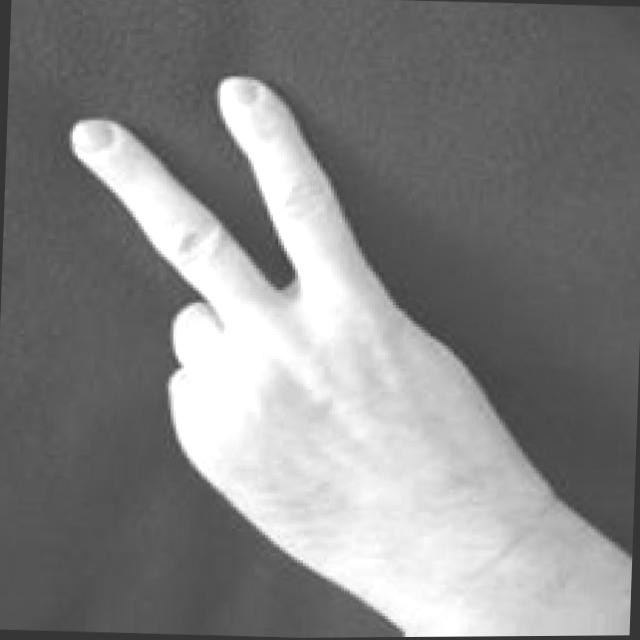V: (47, 63, 578, 634)
